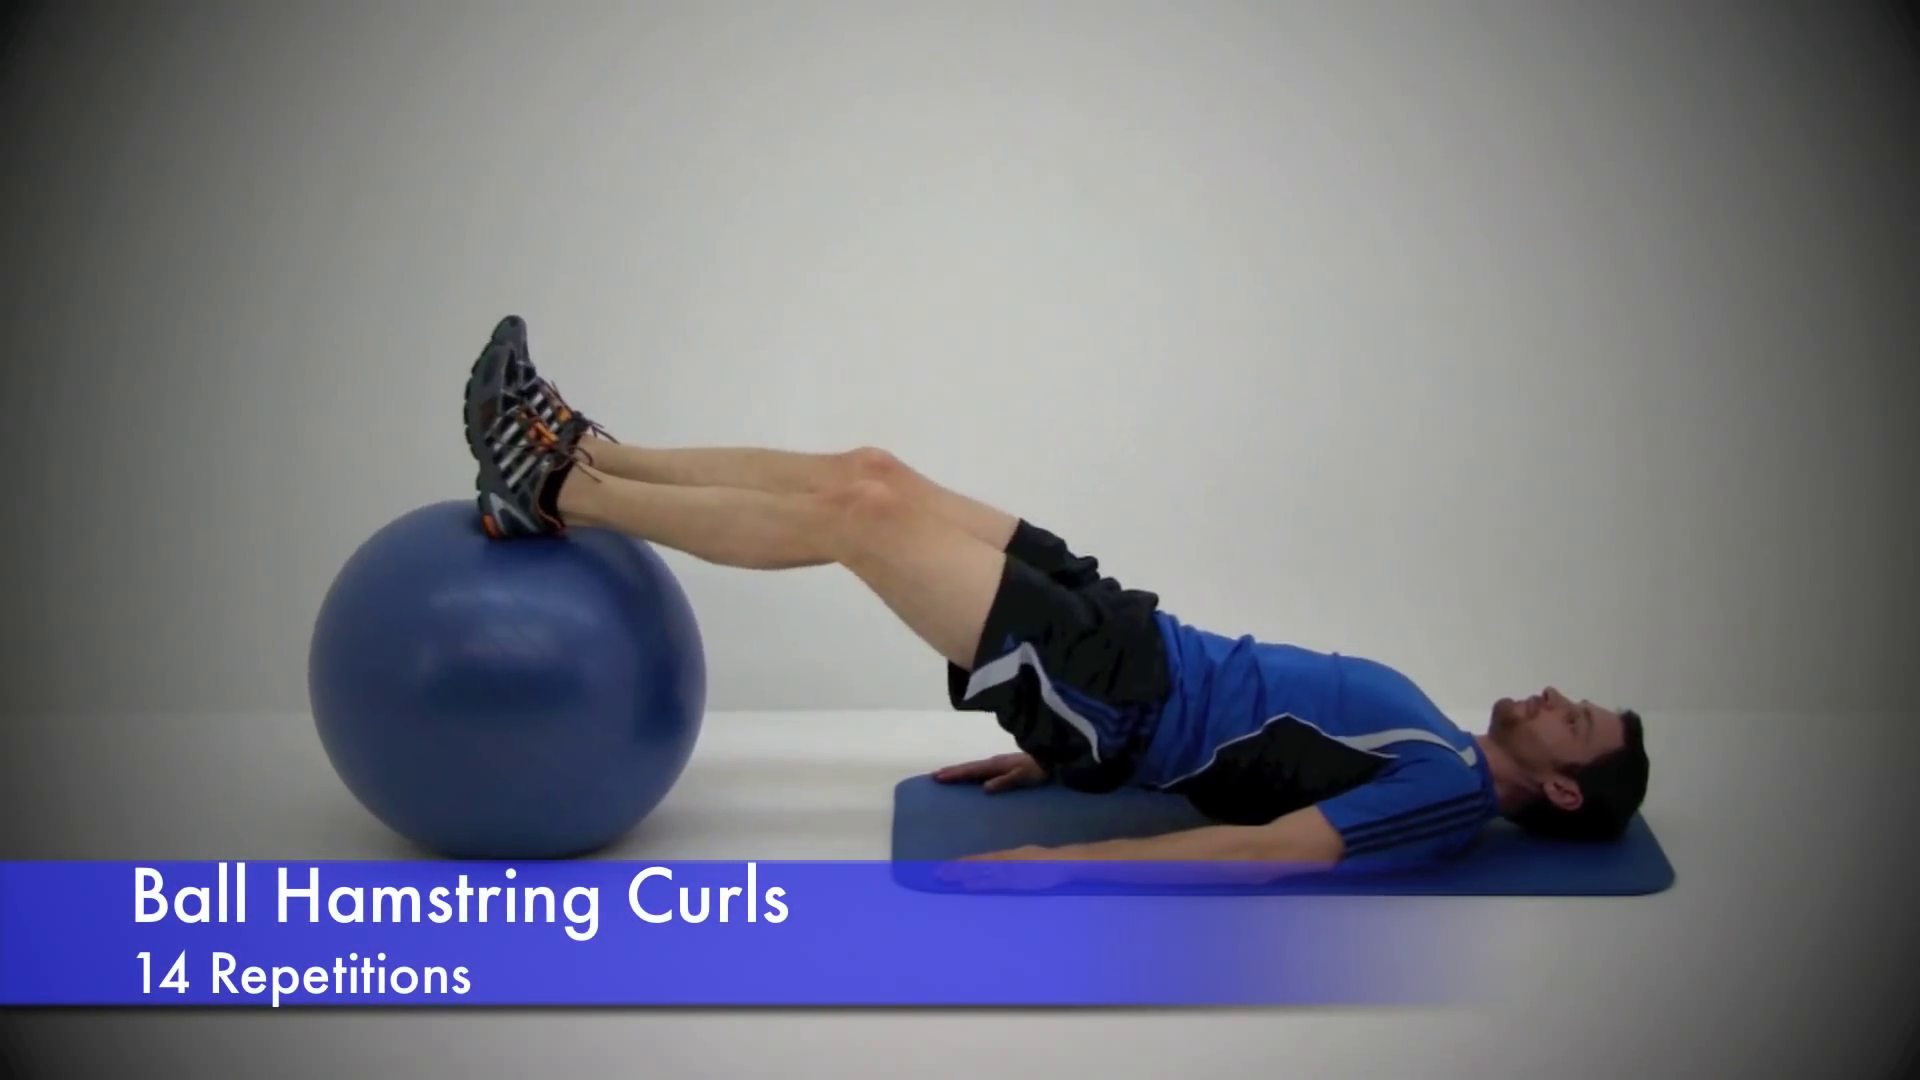yogaball: (303, 492, 716, 873)
